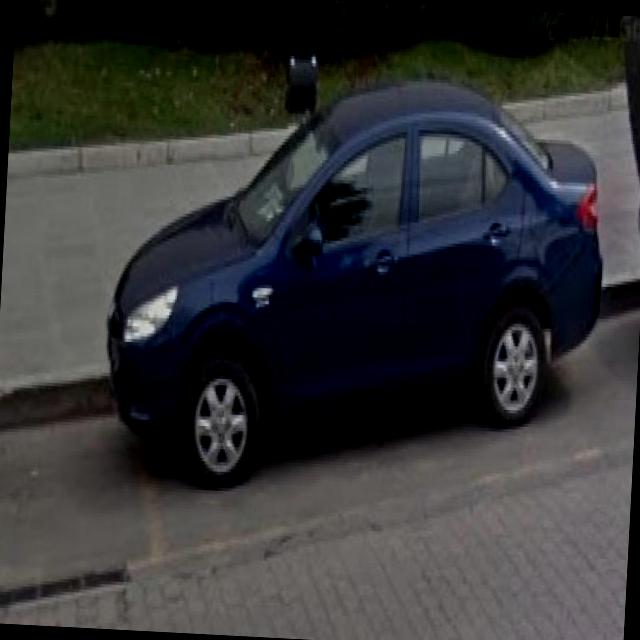car: (100, 53, 612, 504)
